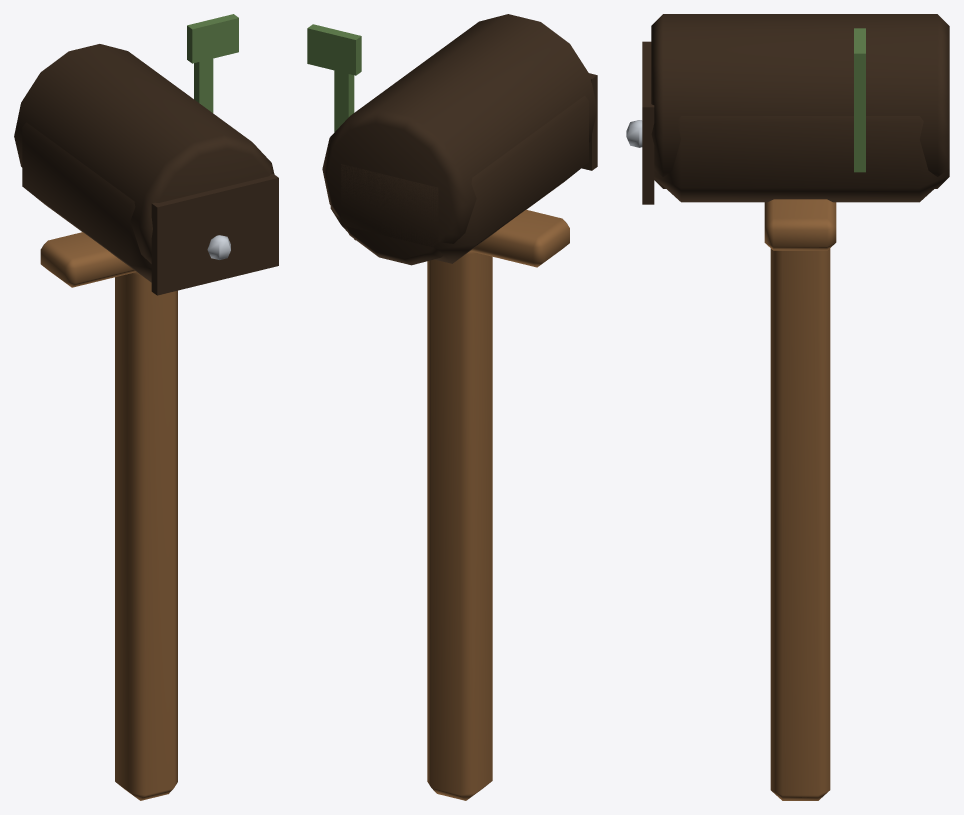
The model's file is house_mailbox.glb.
3 views of the same model, side by side, from view 1: azimuth 30°, elevation 25°; view 2: azimuth 150°, elevation 25°; view 3: azimuth 270°, elevation 25° (orthographic). The views are drawn at different scales.
Visible parts, largest first — view 1: house_mailbox; view 2: house_mailbox; view 3: house_mailbox.
Boxes of the visible parts, x1=… form: house_mailbox: x1=14, y1=14, x2=278, y2=800; house_mailbox: x1=307, y1=14, x2=597, y2=800; house_mailbox: x1=626, y1=14, x2=949, y2=800.
Size of the model in its own units: 0.45 by 1.49 by 0.5417.
